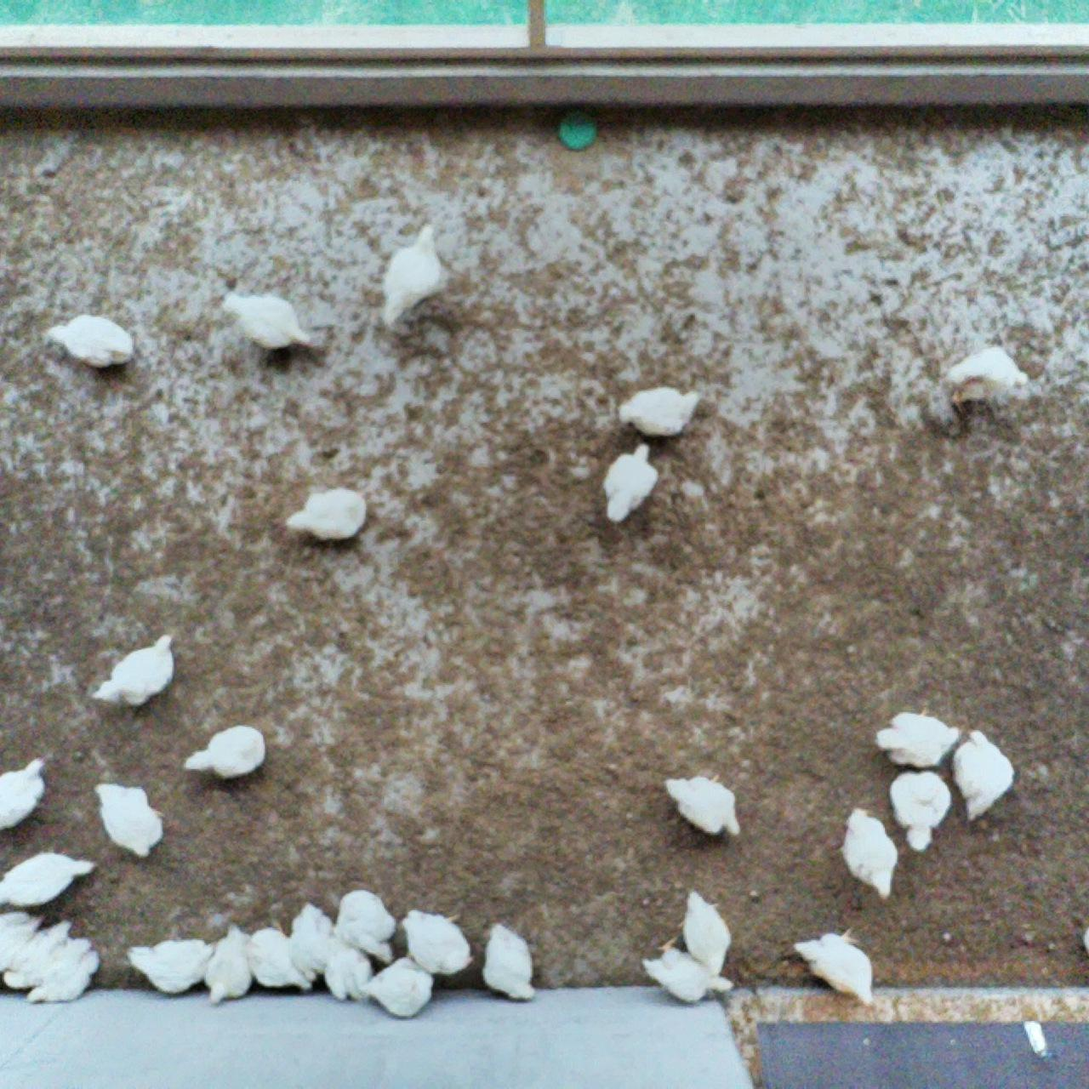chicken: (788, 925, 881, 1010), (376, 221, 449, 326), (90, 630, 180, 710), (218, 288, 324, 354), (640, 932, 738, 1003), (949, 727, 1018, 822), (838, 802, 902, 903), (942, 342, 1032, 412), (91, 779, 167, 861), (874, 703, 964, 771), (662, 772, 751, 839), (45, 311, 138, 374), (885, 768, 954, 852), (0, 850, 98, 909), (0, 918, 77, 993), (358, 951, 441, 1019), (282, 482, 372, 544), (399, 905, 476, 976), (121, 935, 212, 995), (479, 920, 542, 1006), (613, 382, 705, 440), (674, 887, 733, 977), (246, 918, 314, 994), (333, 888, 399, 965), (181, 721, 269, 778), (202, 921, 256, 1008), (602, 443, 657, 527), (285, 900, 338, 985), (25, 948, 104, 1005), (320, 931, 380, 1001), (0, 754, 50, 837), (0, 910, 46, 976), (44, 934, 91, 977)
